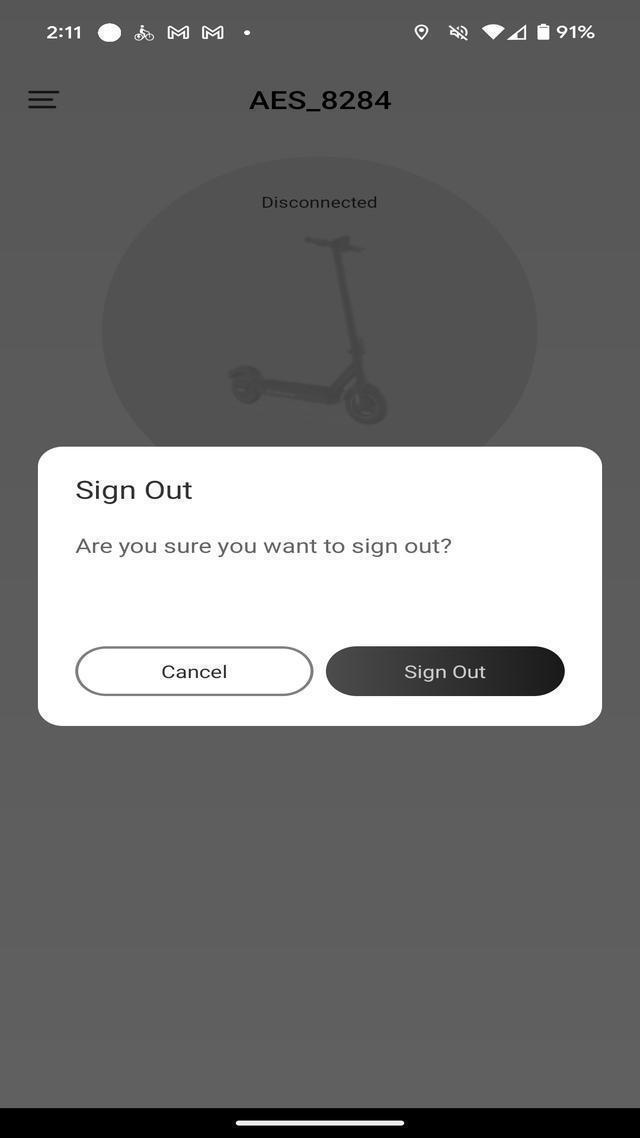Icon: (22, 82, 64, 114), (129, 19, 158, 48), (443, 18, 471, 44), (92, 22, 124, 44), (196, 22, 228, 42), (480, 21, 504, 41), (165, 23, 190, 42), (509, 21, 529, 42), (534, 18, 551, 42), (414, 24, 430, 46), (238, 24, 258, 39)
Image: (211, 229, 454, 429)
Text: (66, 526, 469, 570), (243, 82, 401, 120), (251, 186, 386, 217), (66, 476, 200, 506), (399, 660, 494, 684), (151, 659, 239, 684), (38, 20, 86, 47), (554, 20, 600, 42)
TextButton: (323, 644, 564, 697), (73, 646, 316, 697)
